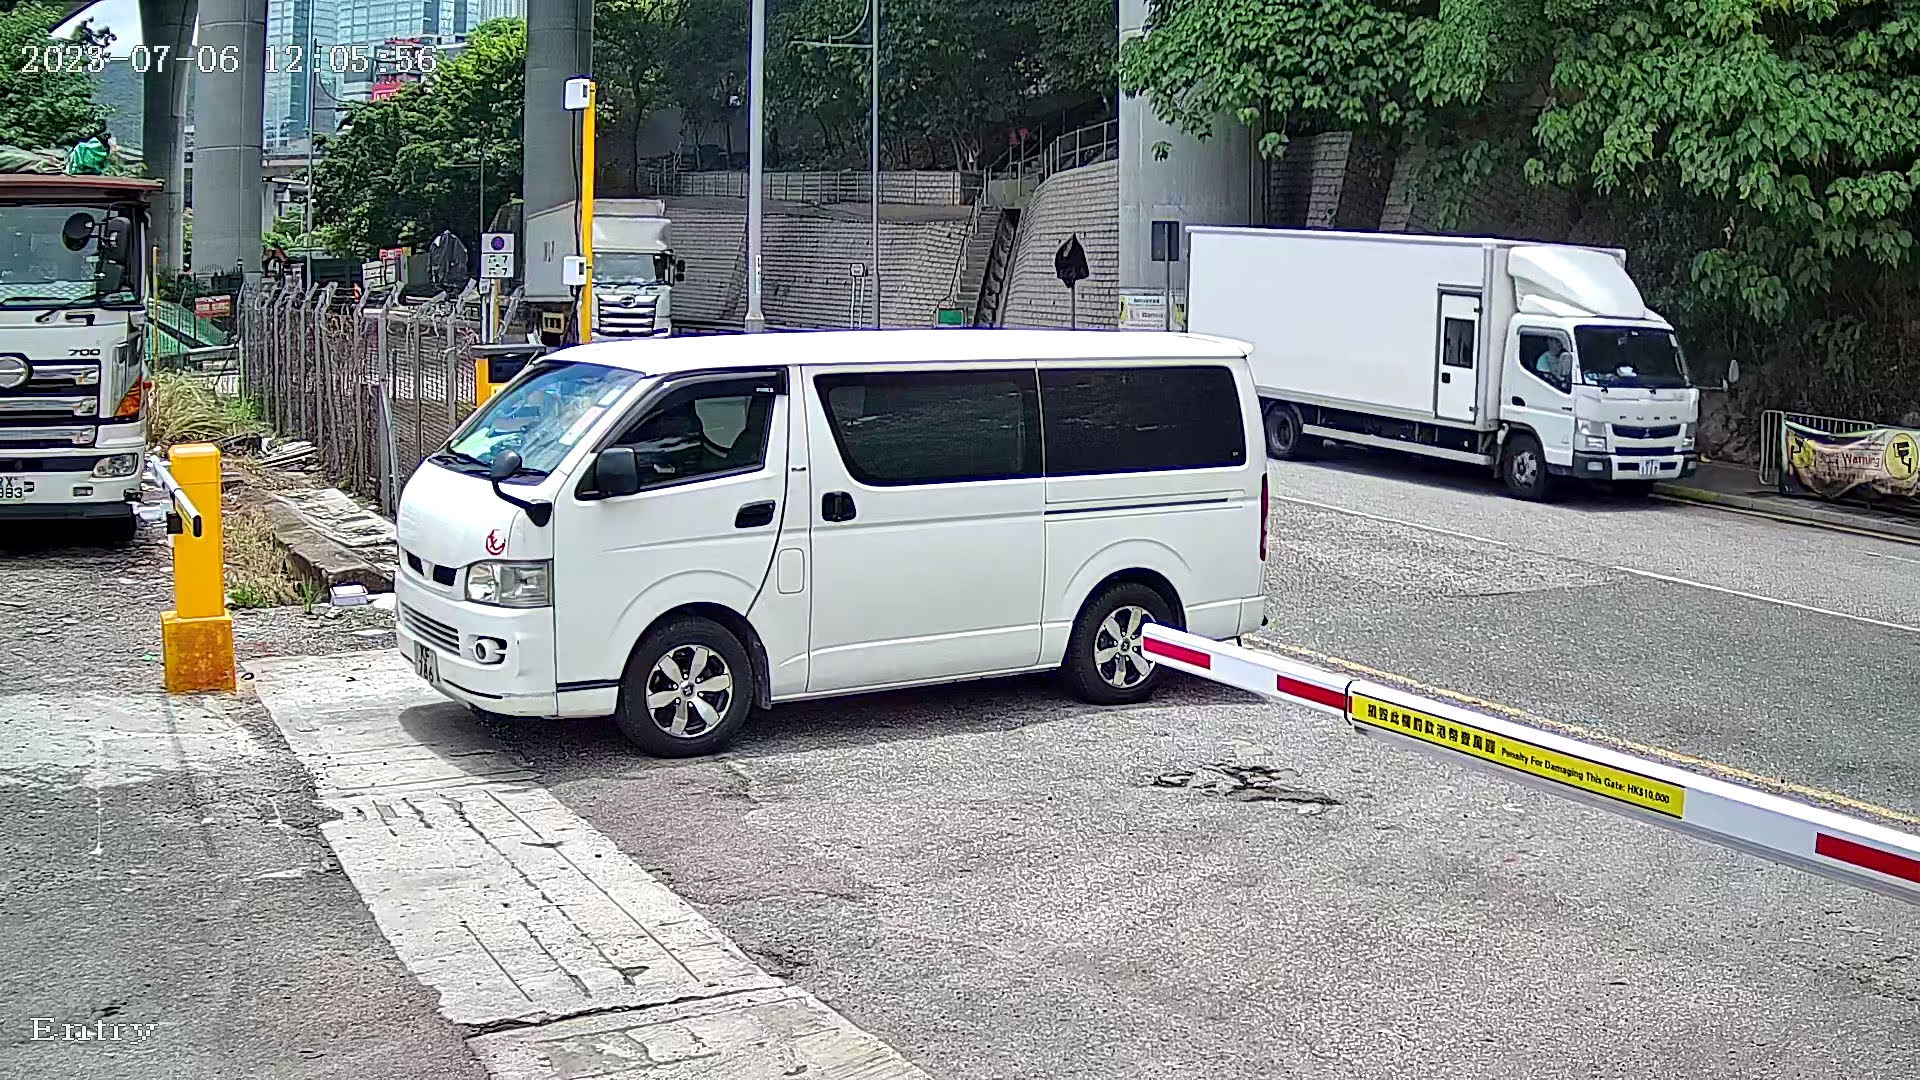privatecar: (324, 251, 1325, 829)
